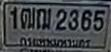1: (10, 6, 16, 28)
2: (55, 8, 66, 30)
3: (68, 8, 78, 30)
5: (93, 9, 104, 30)
6: (81, 9, 91, 30)
A12: (36, 7, 51, 29)
A18: (20, 7, 35, 28)
BKK: (18, 35, 92, 50)
